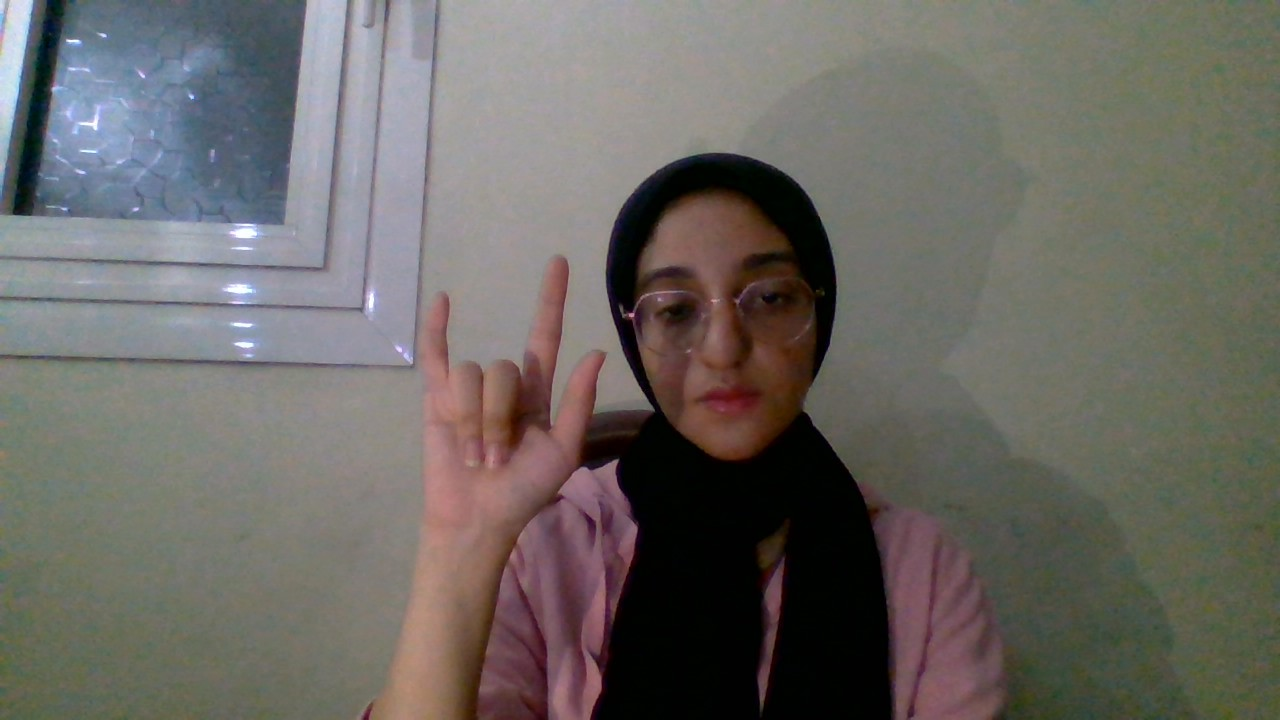love: (363, 241, 658, 557)
